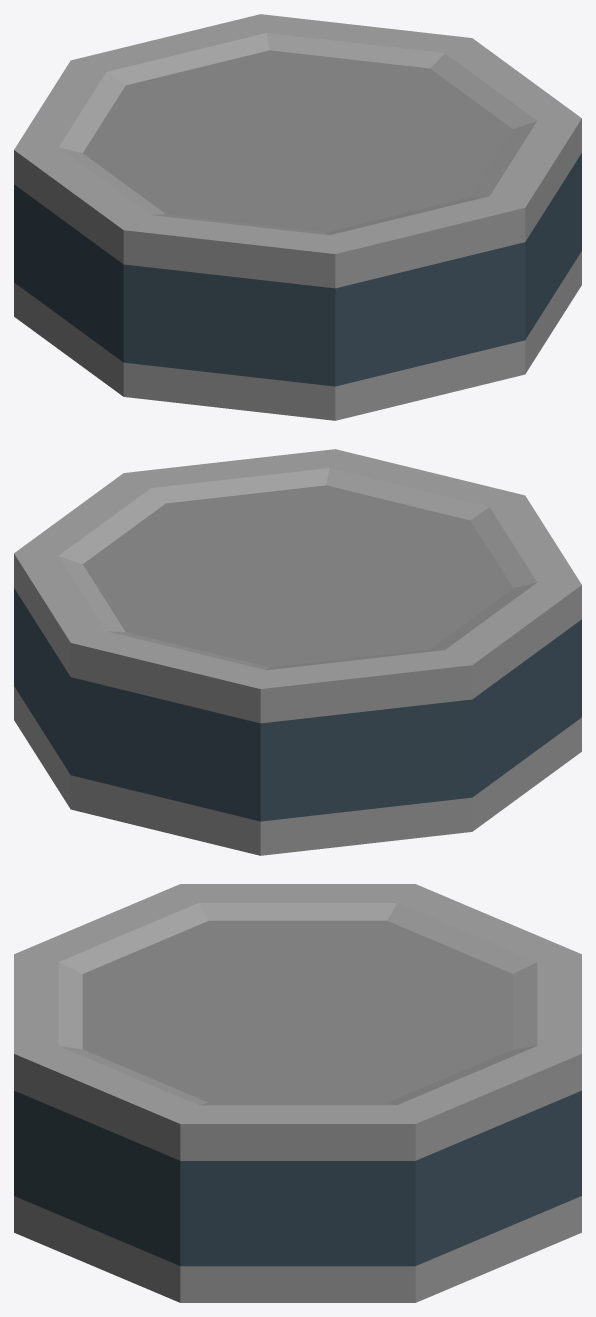
File: SM_Food_CannedFood_07.fbx
The picture shows the model from 3 angles, top to bottom: view 1: azimuth 30°, elevation 25°; view 2: azimuth 150°, elevation 25°; view 3: azimuth 270°, elevation 25°; orthographic projection. The views are drawn at different scales.
Parts seen in each view (by area): view 1: SM_Food_CannedFood_07; view 2: SM_Food_CannedFood_07; view 3: SM_Food_CannedFood_07.
Boxes of the visible parts, <box> form: SM_Food_CannedFood_07: <box>14,14,581,420</box>; SM_Food_CannedFood_07: <box>14,449,581,855</box>; SM_Food_CannedFood_07: <box>14,884,581,1302</box>.
Size of the model in its own units: 0.1267 by 0.044 by 0.1267.
